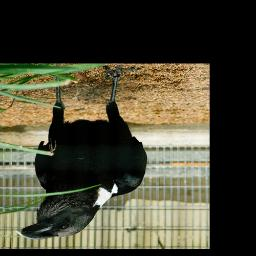Crow: (14, 65, 147, 240)
